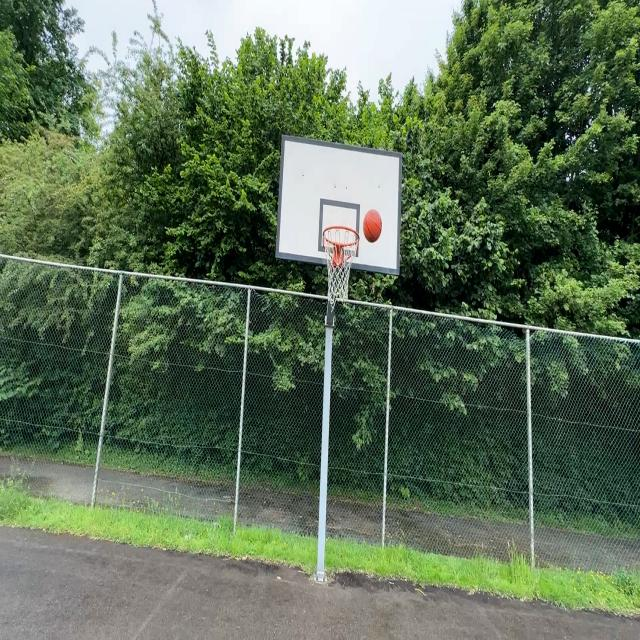Basketball: (362, 210, 381, 243)
